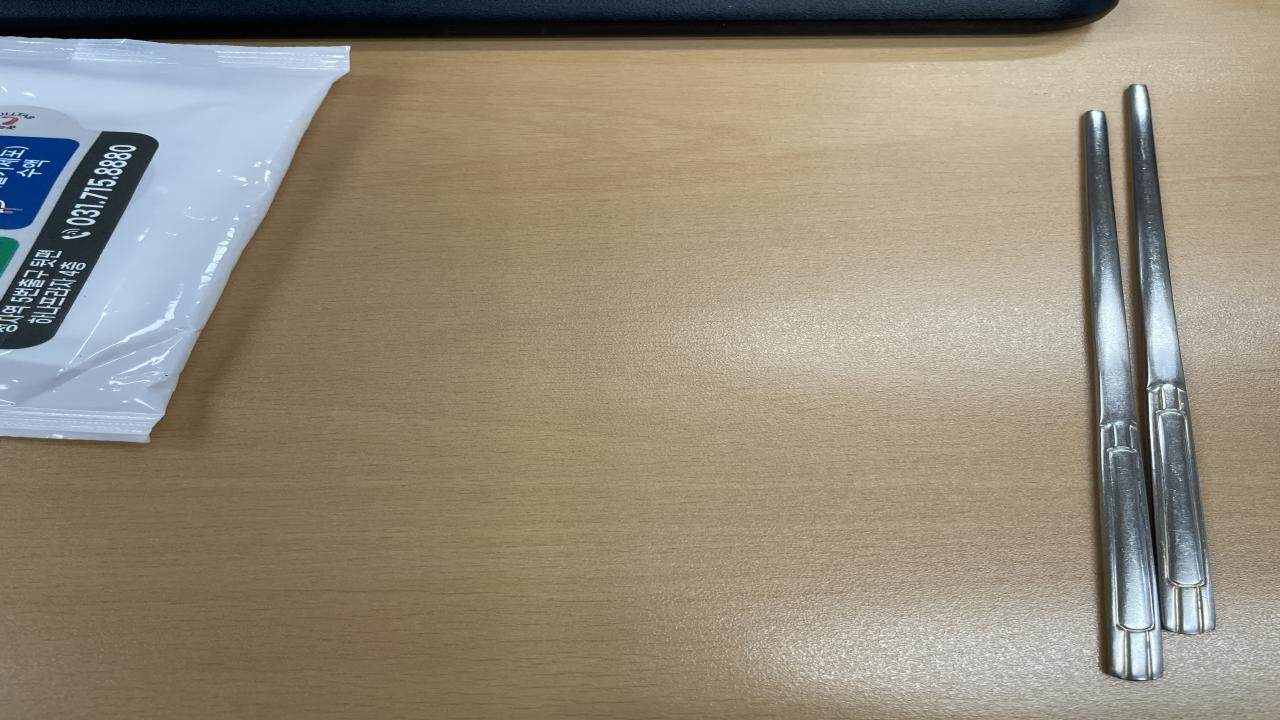chopstick: (1079, 84, 1217, 682)
